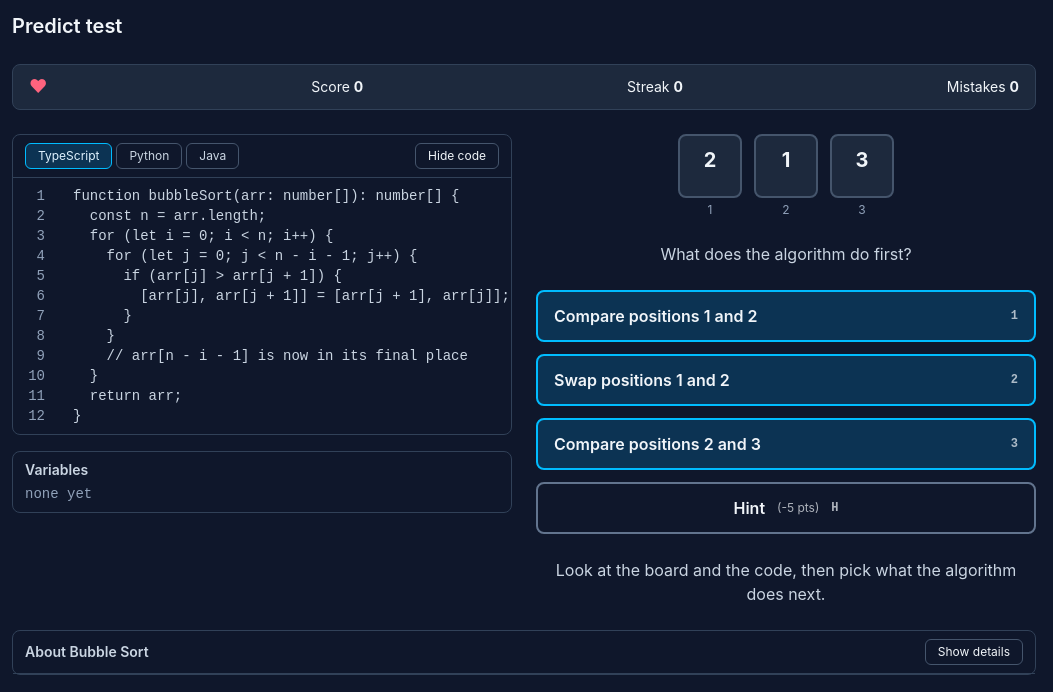
PredictScreen › losing the last life ends the level
What coordinates should you click on to do the following:
click the button "Swap positions 1 and 2 2"
I would click on:
 (642, 380)
Its box is [536, 354, 1036, 406].
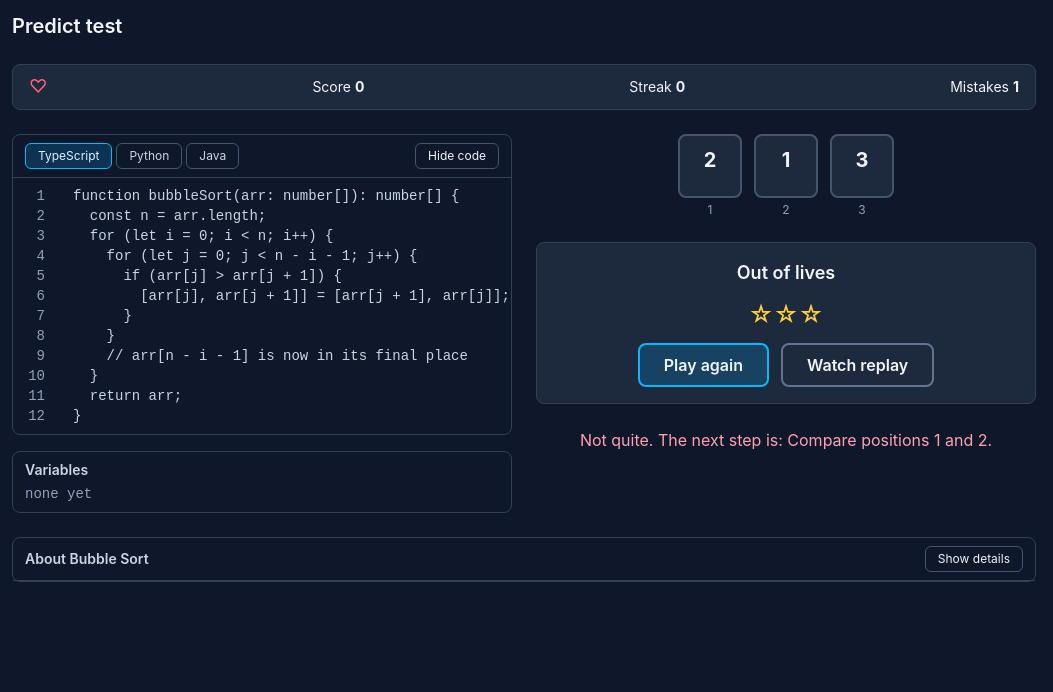
Now the text "Out of lives" is shown, box [737, 259, 835, 287]
Now the picture named "0 of 3 stars" is shown, box [748, 299, 824, 331]
